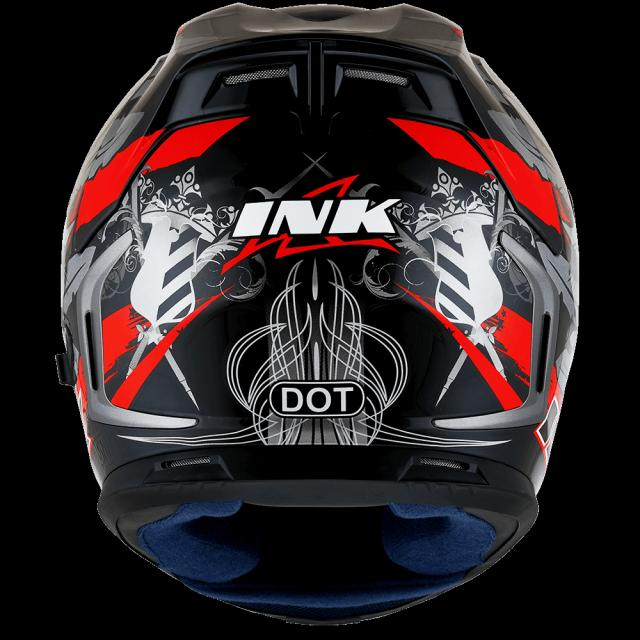Helm: (52, 0, 585, 628)
